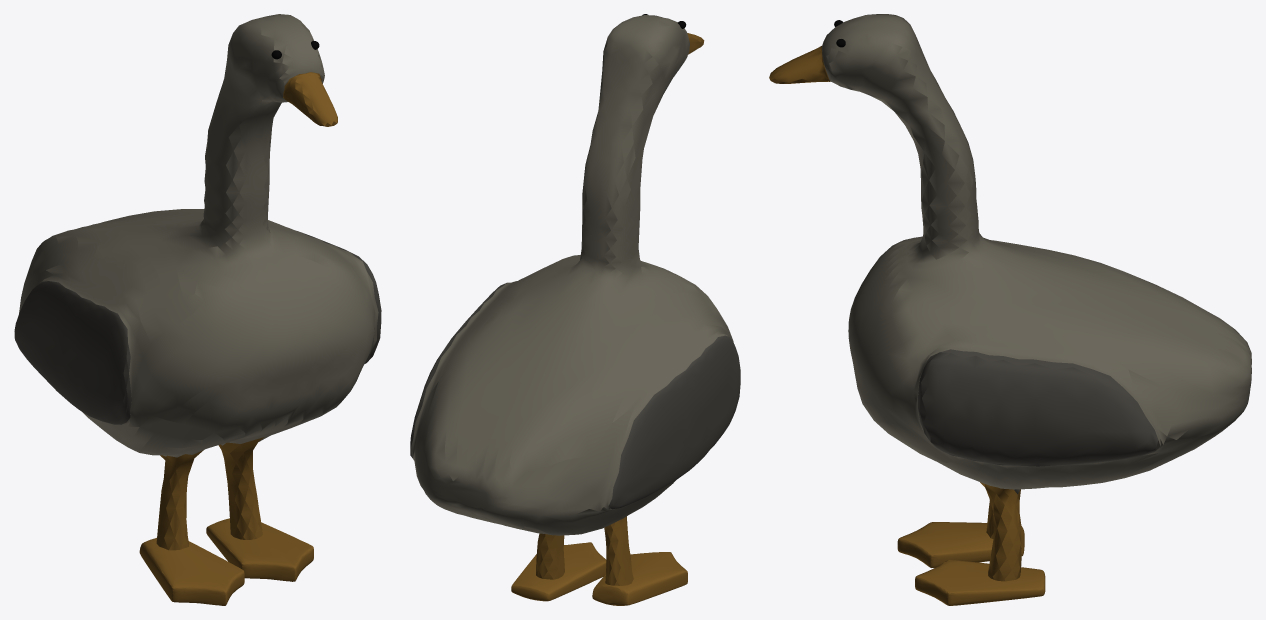
File: goose4.gltf
3 renders of one model, left to right at view 1: azimuth 30°, elevation 25°; view 2: azimuth 150°, elevation 25°; view 3: azimuth 270°, elevation 25°, orthographic. The views are drawn at different scales.
Visible parts, largest first — view 1: Cube; view 2: Cube; view 3: Cube.
Part boxes in pixels (bbox=[...]): Cube: bbox=[14, 14, 381, 605]; Cube: bbox=[410, 14, 740, 605]; Cube: bbox=[769, 14, 1251, 605].
Bounding box in the file's own units: 8.33 × 17.53 × 13.91.
